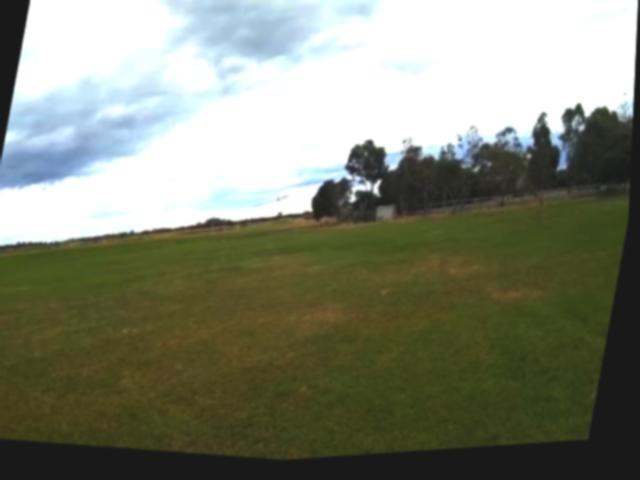uav: (246, 174, 319, 230)
